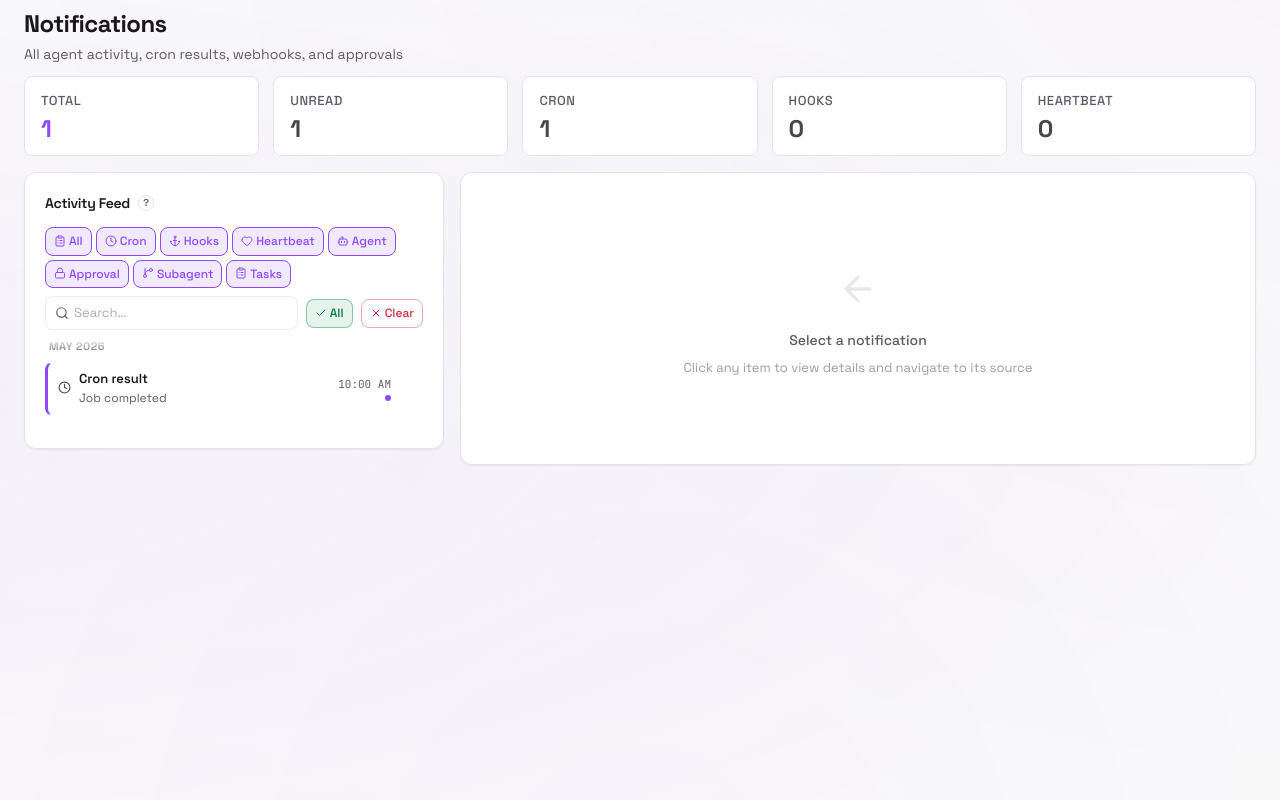
Test: Cron Notification Buttons › renders "View last result" when job_id present but no slot
Click the text "Cron result": point(114, 378) [79,370,148,386]
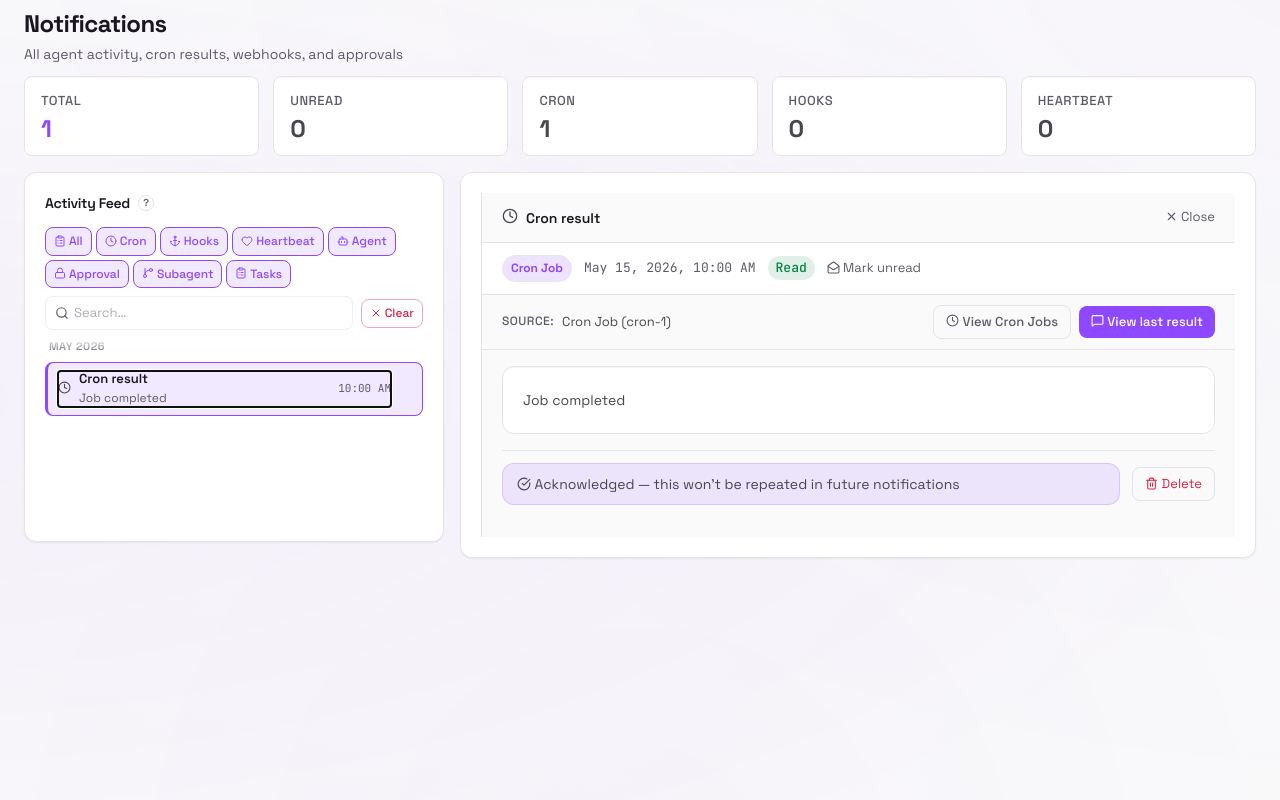
Expected: the button "View last result" is shown, [1079,306,1215,338]
